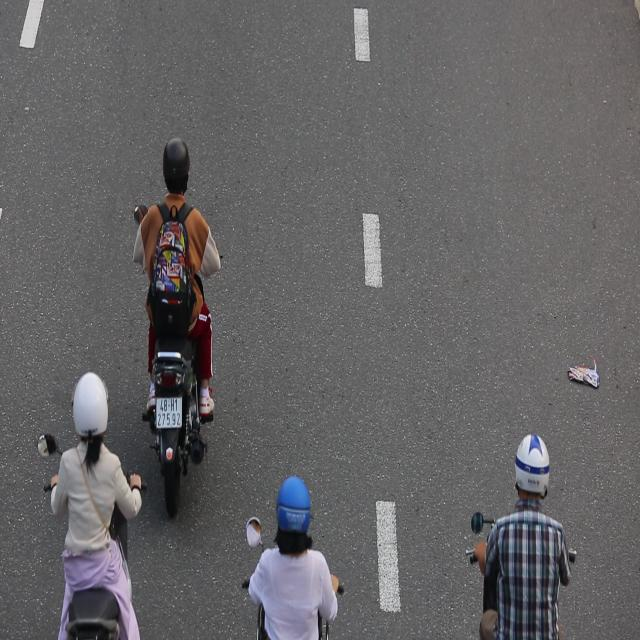motorbike: (129, 124, 224, 512)
